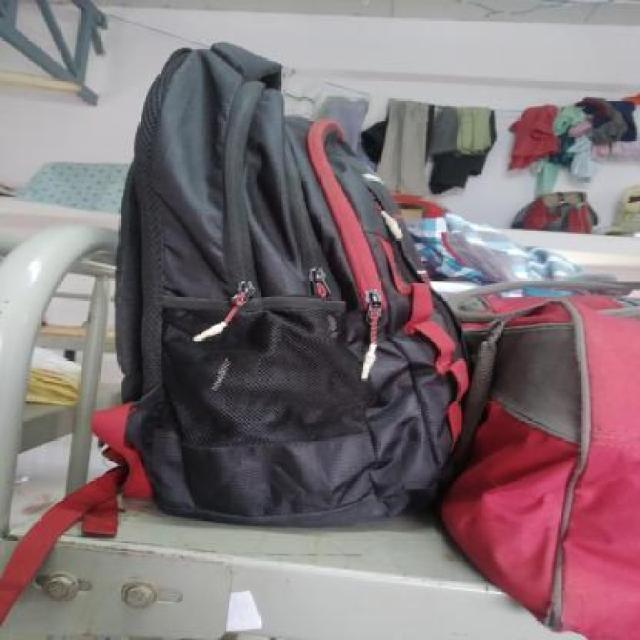backpack: (109, 37, 477, 534)
